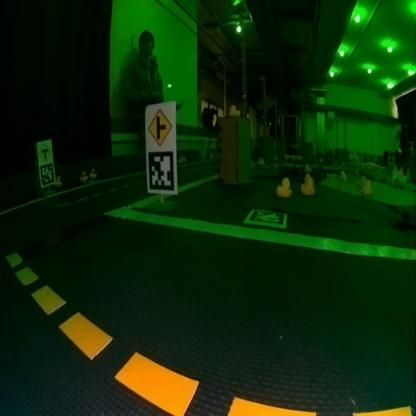Duckie: (276, 177, 291, 195), (303, 180, 313, 194), (362, 180, 372, 194), (55, 175, 62, 186), (78, 170, 86, 179), (88, 168, 96, 177)
Intersection sign: (146, 106, 172, 146), (38, 142, 51, 161)
QR code: (147, 150, 174, 191), (243, 208, 286, 228), (39, 163, 55, 185)
